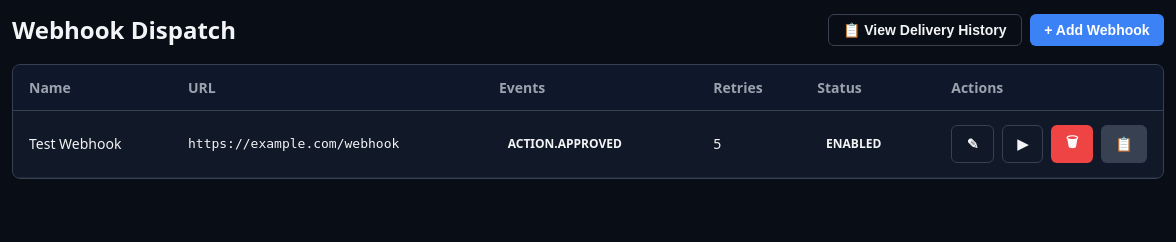
Scenario: WebhookManager › shows delivery history for specific webhook when clicking delivery icon
# Find the delivery history button (📋 icon) for the webhook
Click the button titled "View Deliveries": (1124, 144) [1101,125,1147,163]
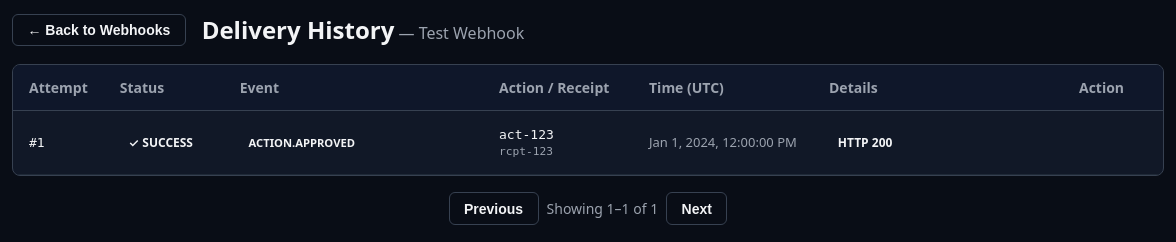
Expected: the heading "Delivery History — Test Webhook" is shown, [202,12,524,48]
Expected: the text "act-123" is shown, [499,127,554,142]
